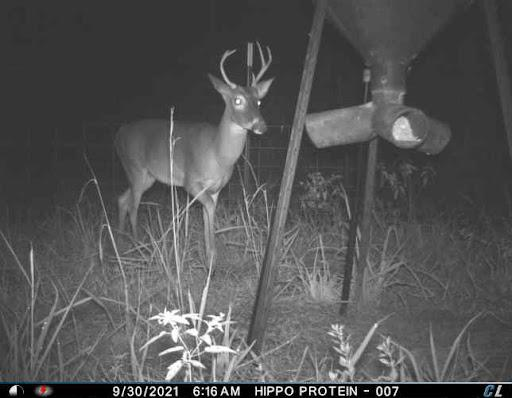Deer: (106, 38, 279, 263)
